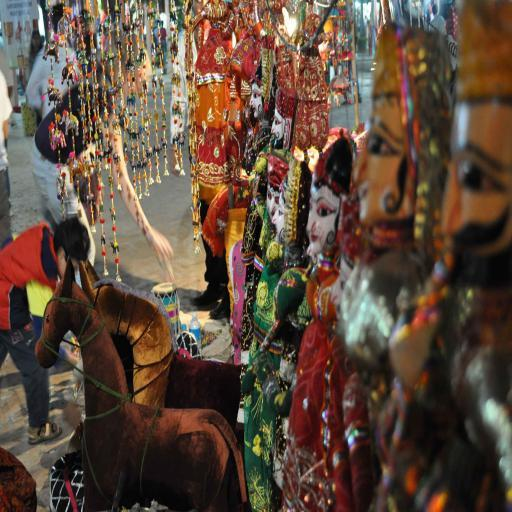Horse: (33, 256, 246, 512)
